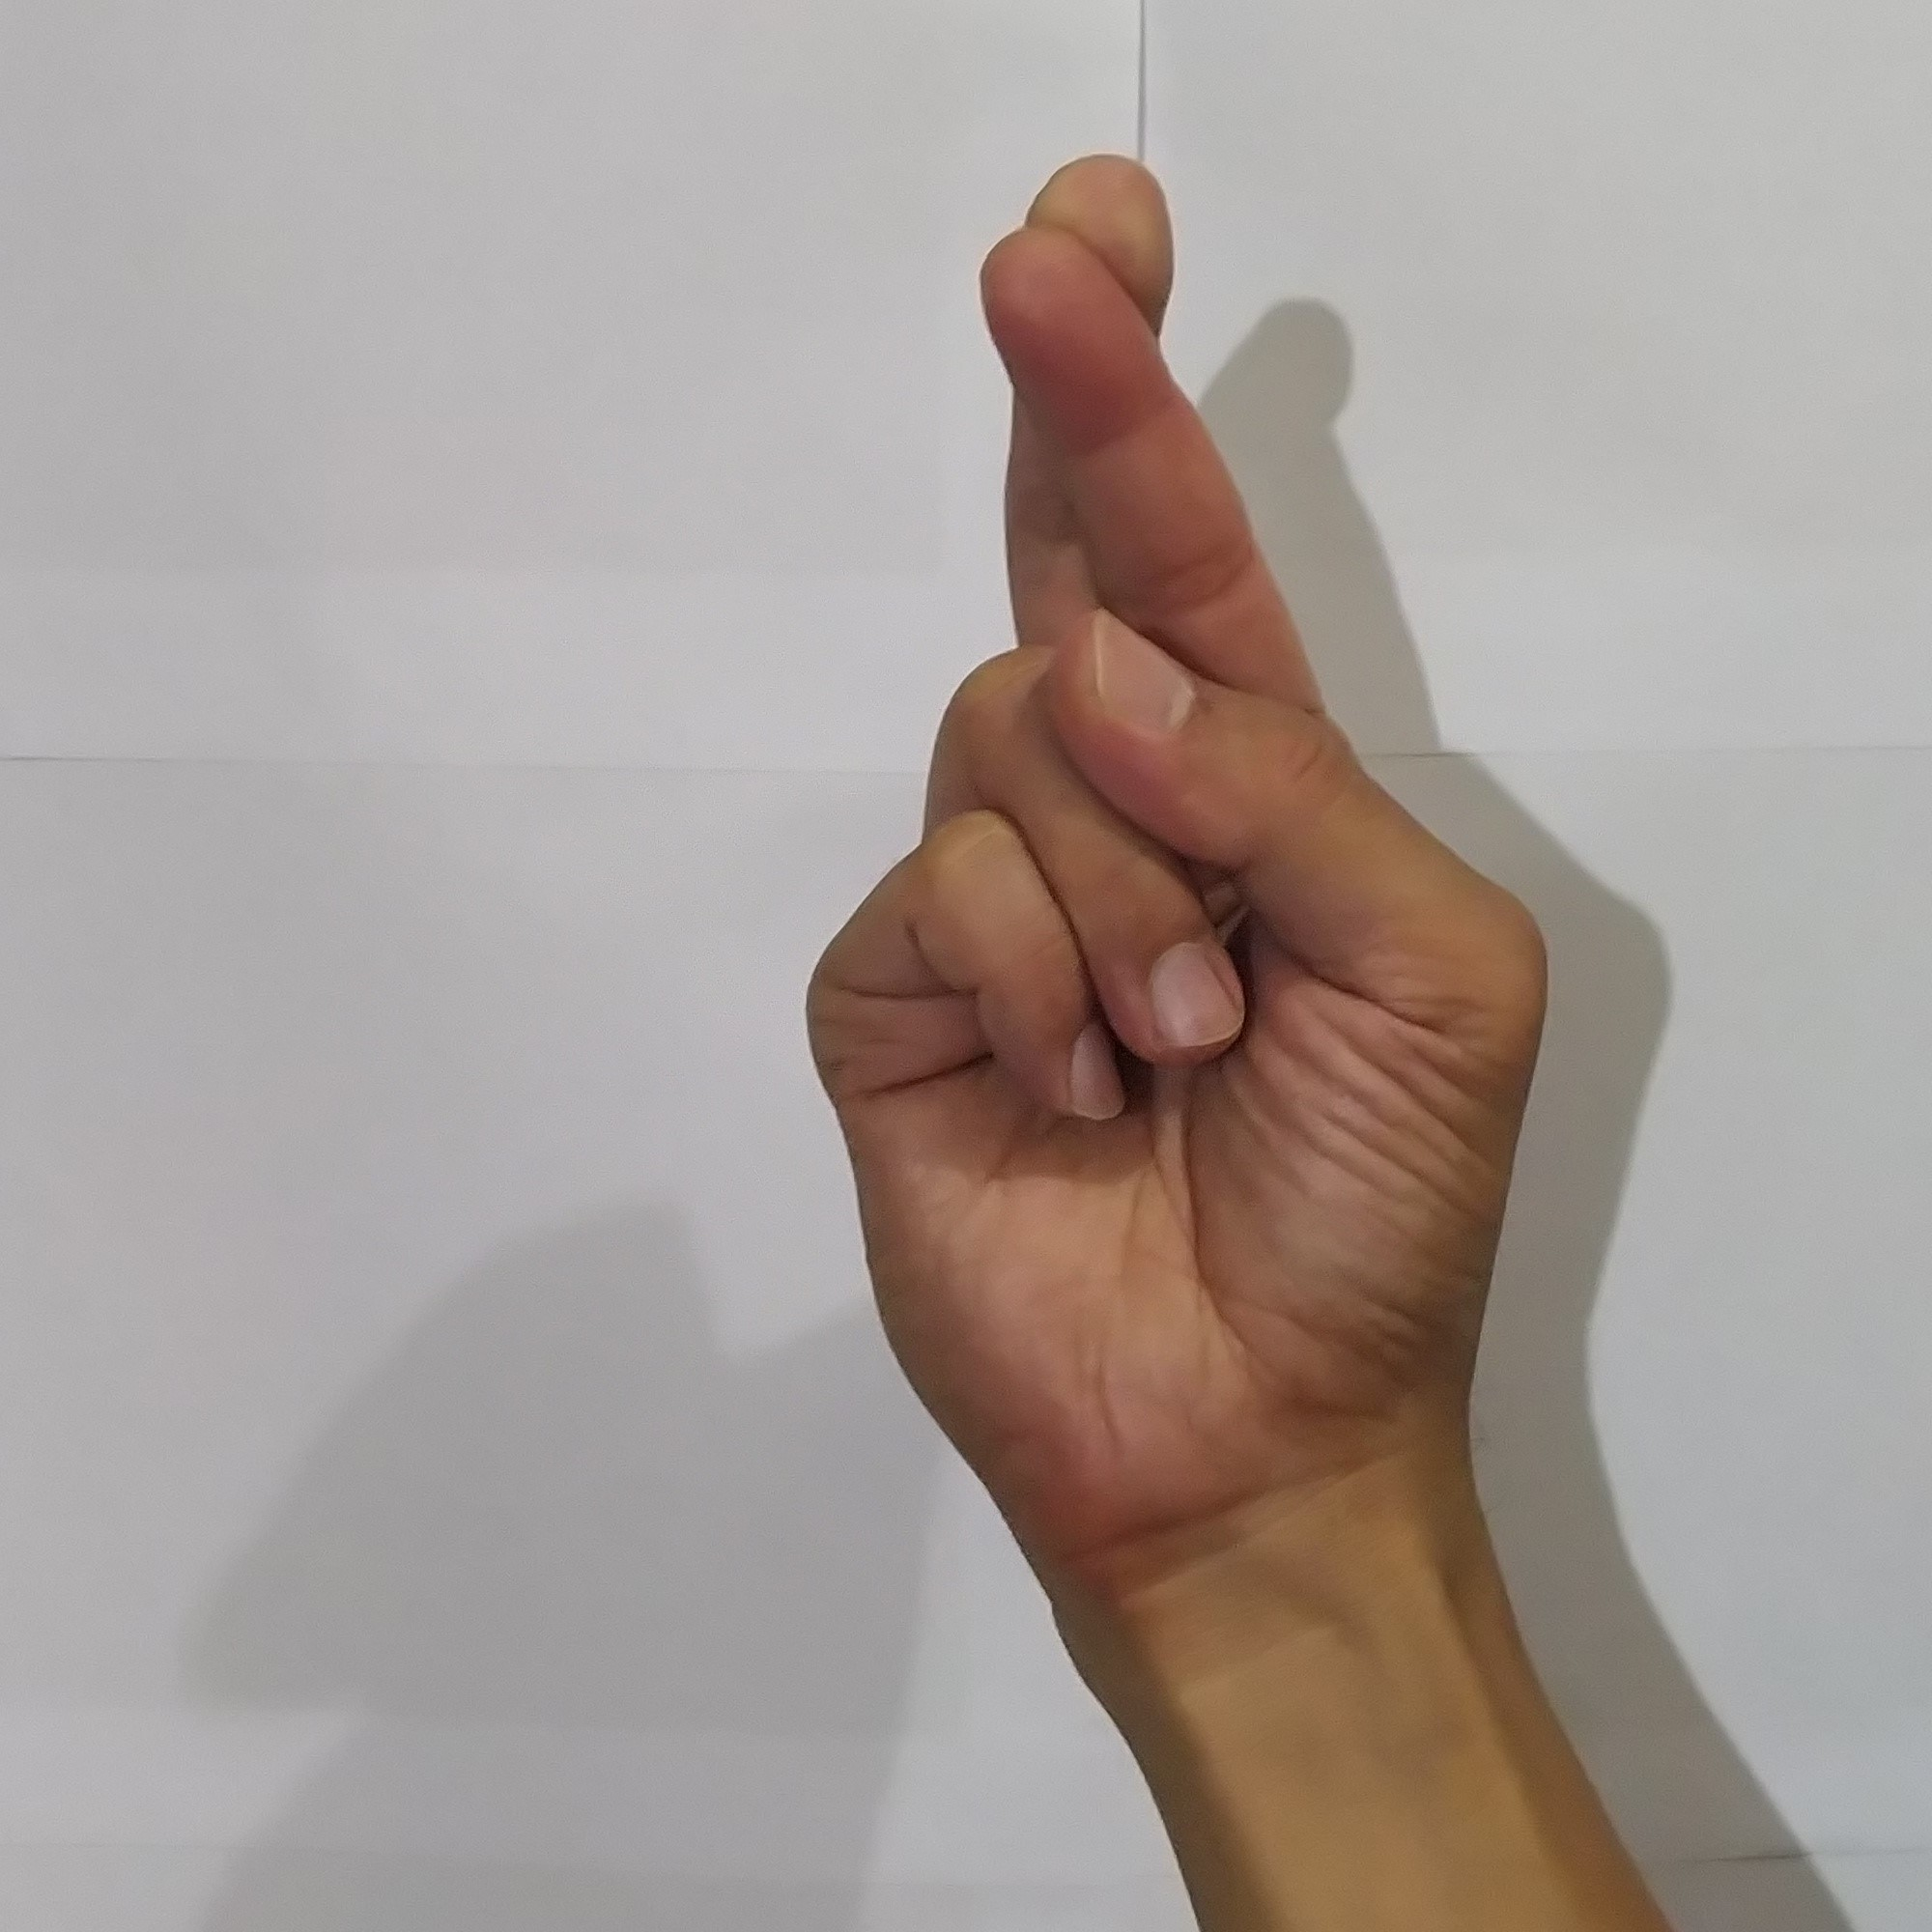R: (764, 127, 1580, 1504)
